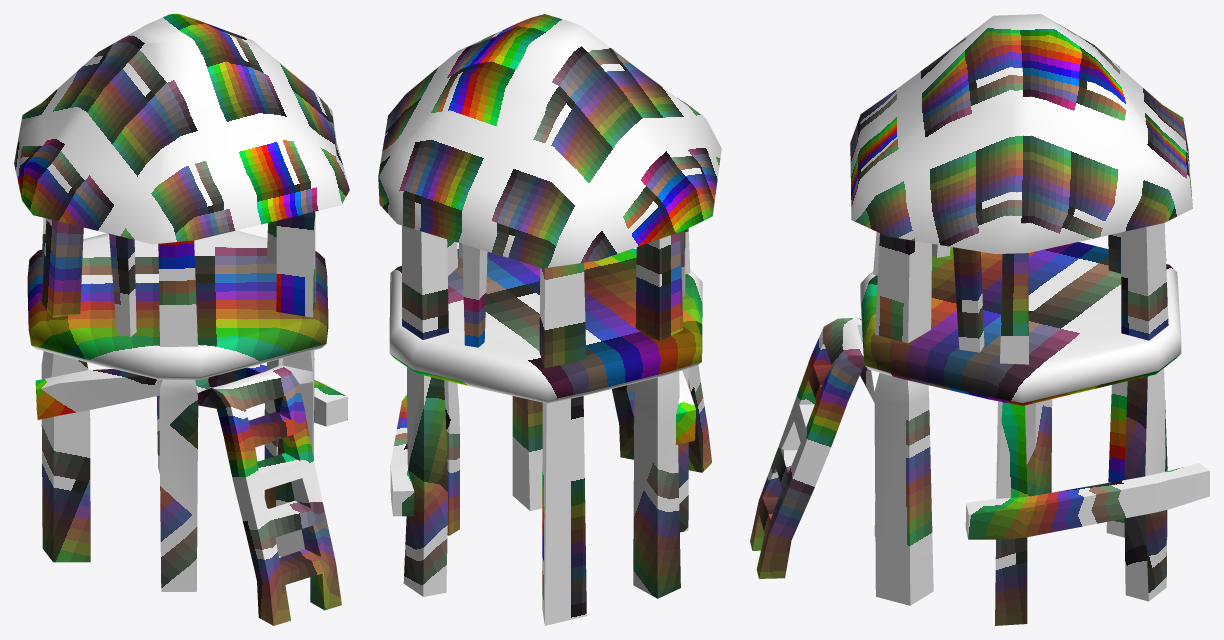
File: NativeHouse2.fbx
3 views of the same model, side by side, from view 1: azimuth 30°, elevation 25°; view 2: azimuth 150°, elevation 25°; view 3: azimuth 270°, elevation 25° (orthographic). The views are drawn at different scales.
Visible parts, largest first — view 1: NativeHouseSmall.003; view 2: NativeHouseSmall.003; view 3: NativeHouseSmall.003.
Boxes of the visible parts, <box> form: NativeHouseSmall.003: <box>14,14,349,625</box>; NativeHouseSmall.003: <box>378,14,721,625</box>; NativeHouseSmall.003: <box>750,14,1209,625</box>.
Size of the model in its own units: 117 by 189 by 146.
